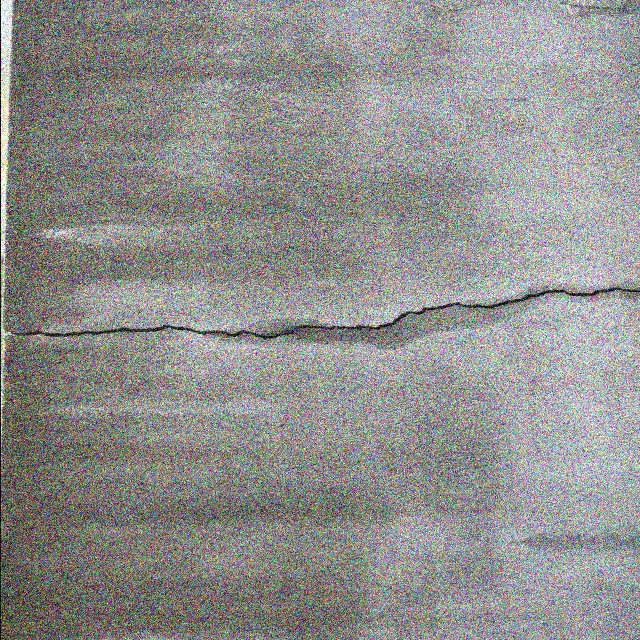SurfaceCrack: (2, 244, 640, 385)
